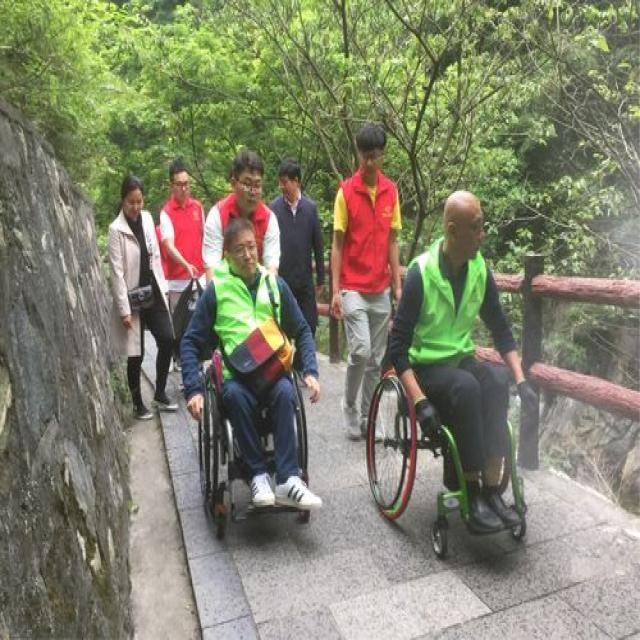wheelchairs: (360, 336, 546, 554), (190, 326, 323, 530)
